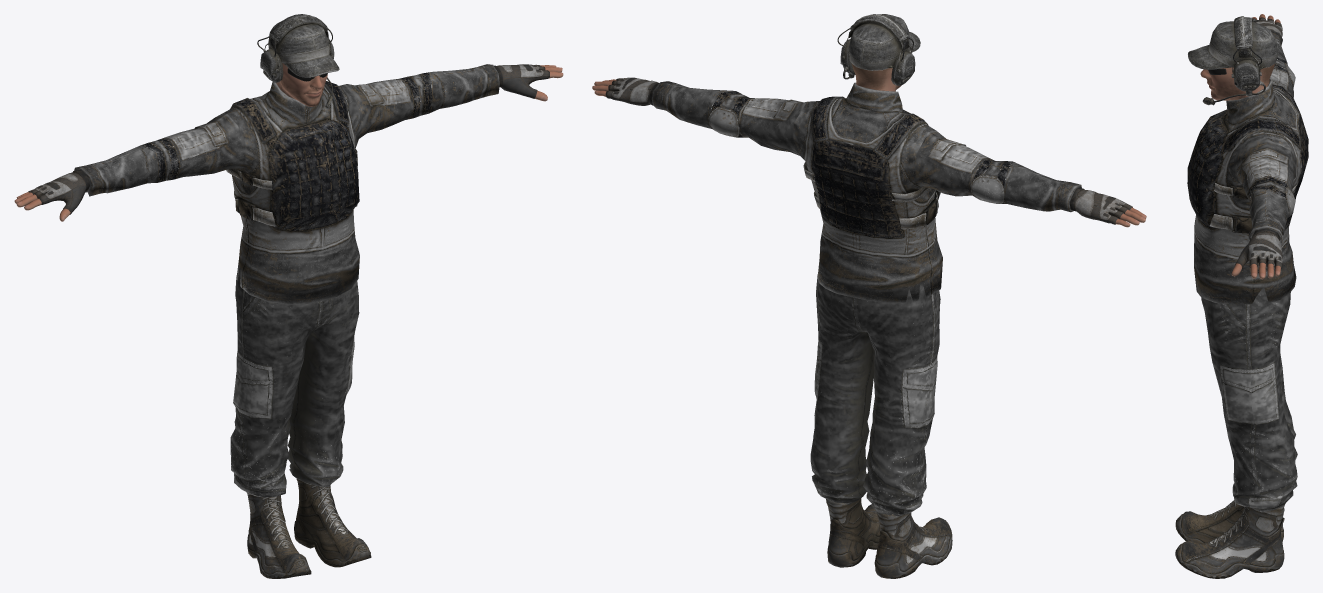
The model's file is MTF CN Unit.obj.
3 renders of one model, left to right at view 1: azimuth 30°, elevation 25°; view 2: azimuth 150°, elevation 25°; view 3: azimuth 270°, elevation 25°, orthographic.
Visible parts, largest first — view 1: Tops, Bottoms, Shoes, Hats, Gloves, Body; view 2: Tops, Bottoms, Shoes, Hats, Gloves, Body; view 3: Tops, Bottoms, Shoes, Hats, Body, Gloves.
Part boxes in pixels (left/top/right/bottom): Tops: left=74, top=64, right=499, bottom=304; Bottoms: left=230, top=268, right=359, bottom=497; Shoes: left=246, top=479, right=371, bottom=578; Hats: left=257, top=14, right=339, bottom=108; Gloves: left=28, top=64, right=549, bottom=214; Body: left=14, top=63, right=563, bottom=221; Tops: left=651, top=81, right=1081, bottom=302; Bottoms: left=810, top=272, right=940, bottom=516; Shoes: left=826, top=498, right=952, bottom=578; Hats: left=837, top=14, right=920, bottom=85; Gloves: left=605, top=77, right=1132, bottom=224; Body: left=592, top=64, right=1146, bottom=227; Tops: left=1187, top=30, right=1308, bottom=304; Bottoms: left=1201, top=287, right=1297, bottom=512; Shoes: left=1175, top=500, right=1284, bottom=578; Hats: left=1188, top=16, right=1278, bottom=105; Body: left=1200, top=14, right=1280, bottom=279; Gloves: left=1235, top=17, right=1282, bottom=268.
Size of the model in its own units: 194 by 183 by 41.35.
7 materials, 7 textured.
